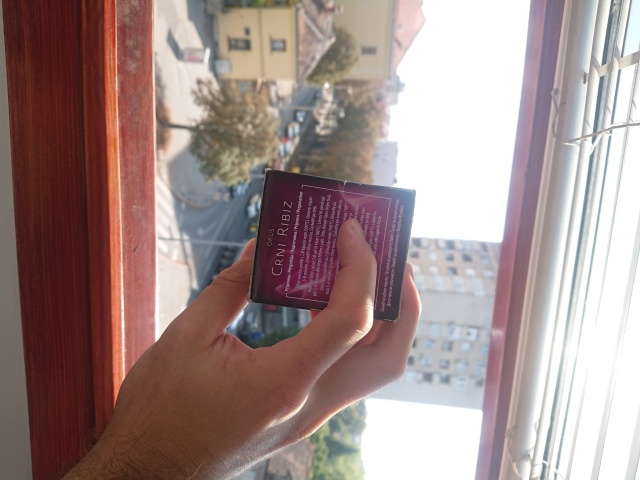Franck Black Currant Tea 60g: (244, 166, 420, 325)
